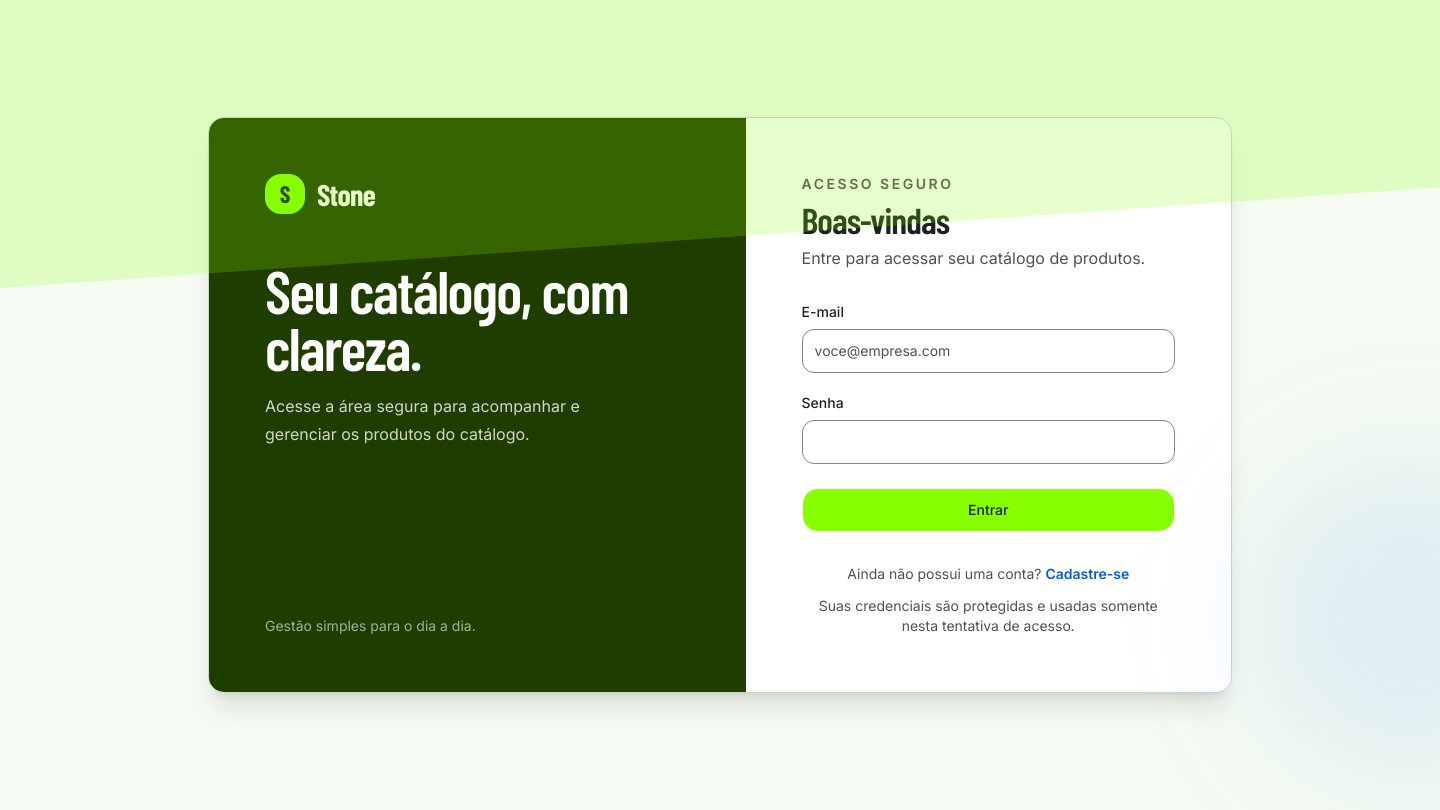
Test: LoginScreen › mantém erro de credencial genérico sem apontar qual campo falhou
Type "maria@example.com" into the field labelled "E-mail" at (988, 351), box [802, 329, 1175, 373]
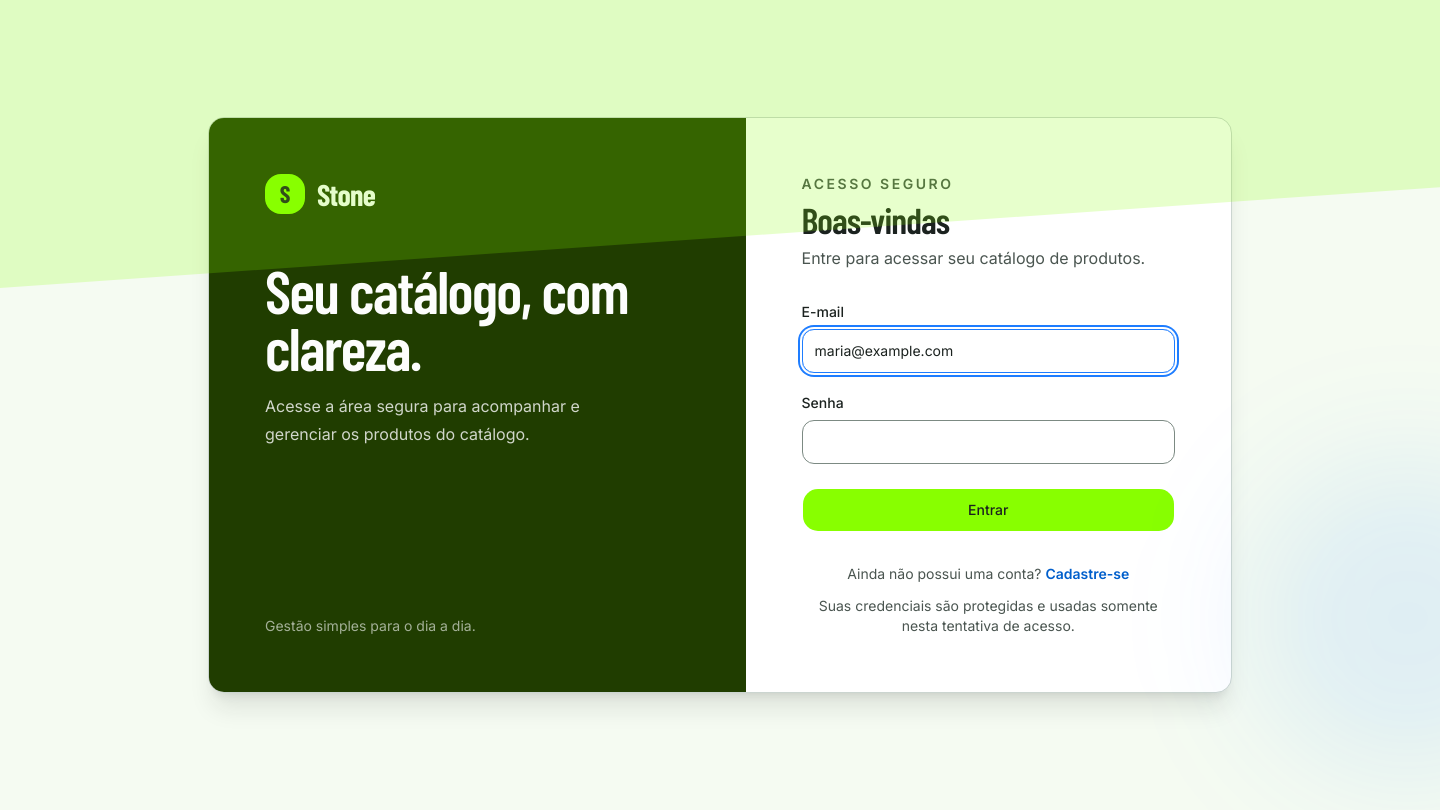
Type "senha-segura" into the password field labelled "Senha" at (988, 442), box [802, 420, 1175, 464]
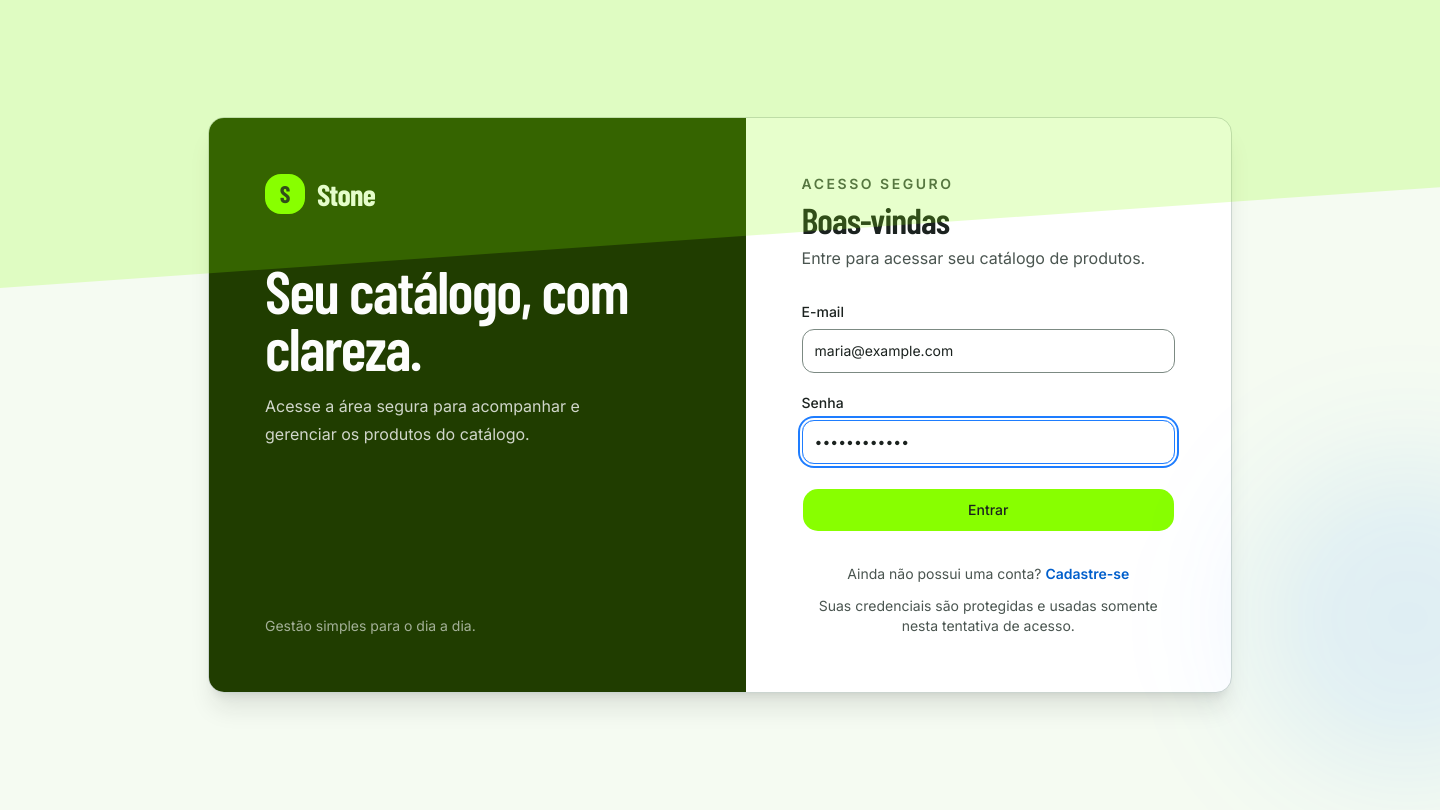
Click the button "Entrar" at (988, 510), box [802, 488, 1175, 532]
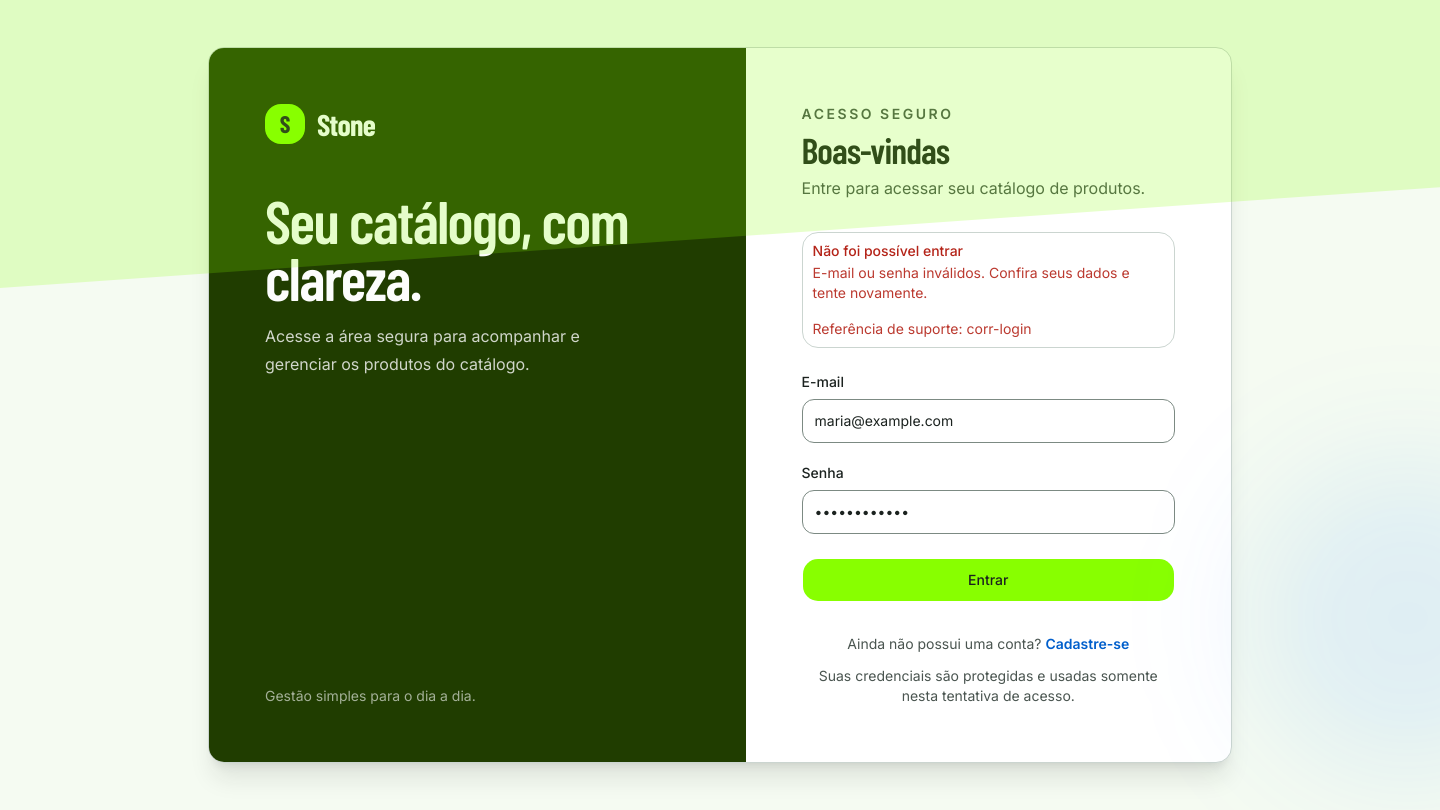
Check: the message shows "E-mail ou senha inválidos. Confira seus dados e tente novamente.", box [812, 264, 1130, 301]
Check: the message shows "Referência de suporte: corr-login", box [802, 232, 1175, 348]
